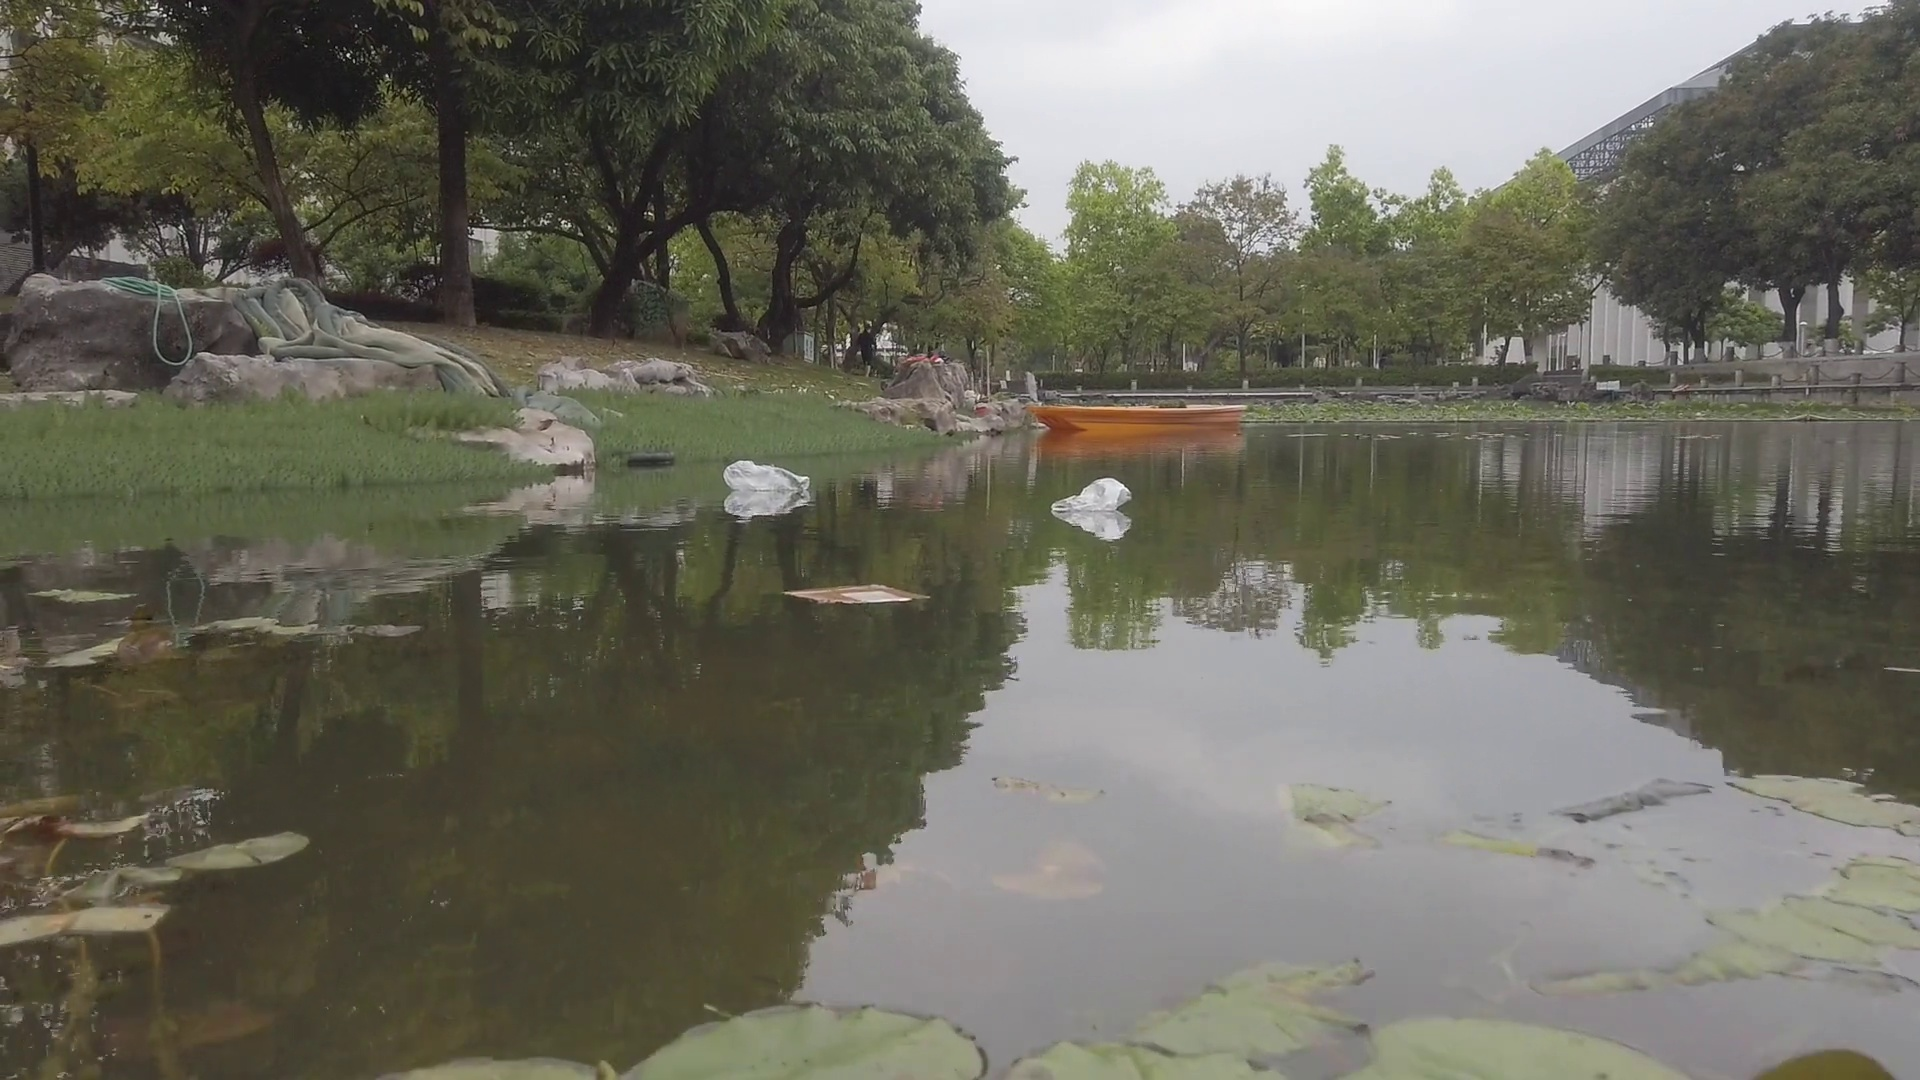paper: (791, 585, 927, 612)
plastic: (1051, 473, 1139, 516), (723, 456, 811, 491)
